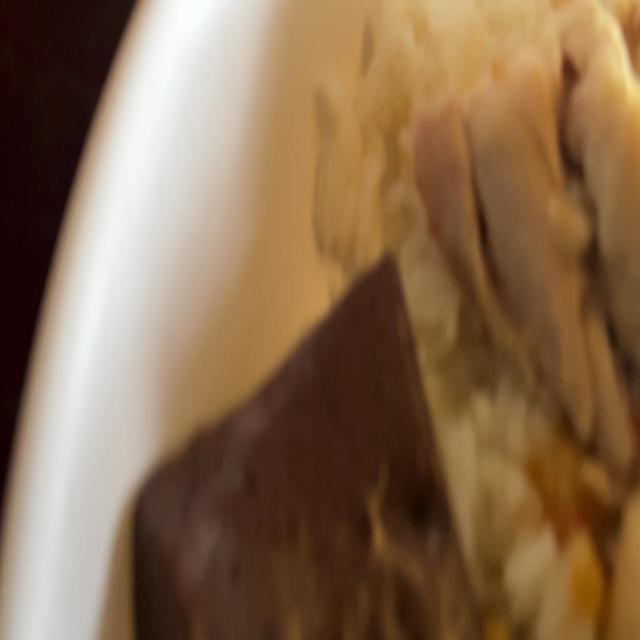boiled_chicken: (421, 9, 640, 480)
boiled_chicken_blood_jelly: (126, 239, 478, 640)
chicken_rice: (127, 0, 640, 640)
